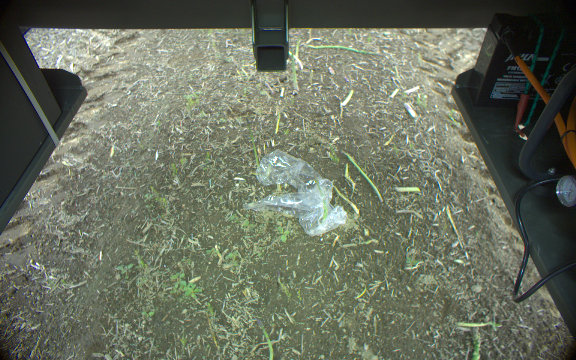aspa: (342, 149, 385, 206), (303, 42, 387, 58), (243, 115, 260, 178), (255, 316, 278, 360), (314, 176, 328, 225)
